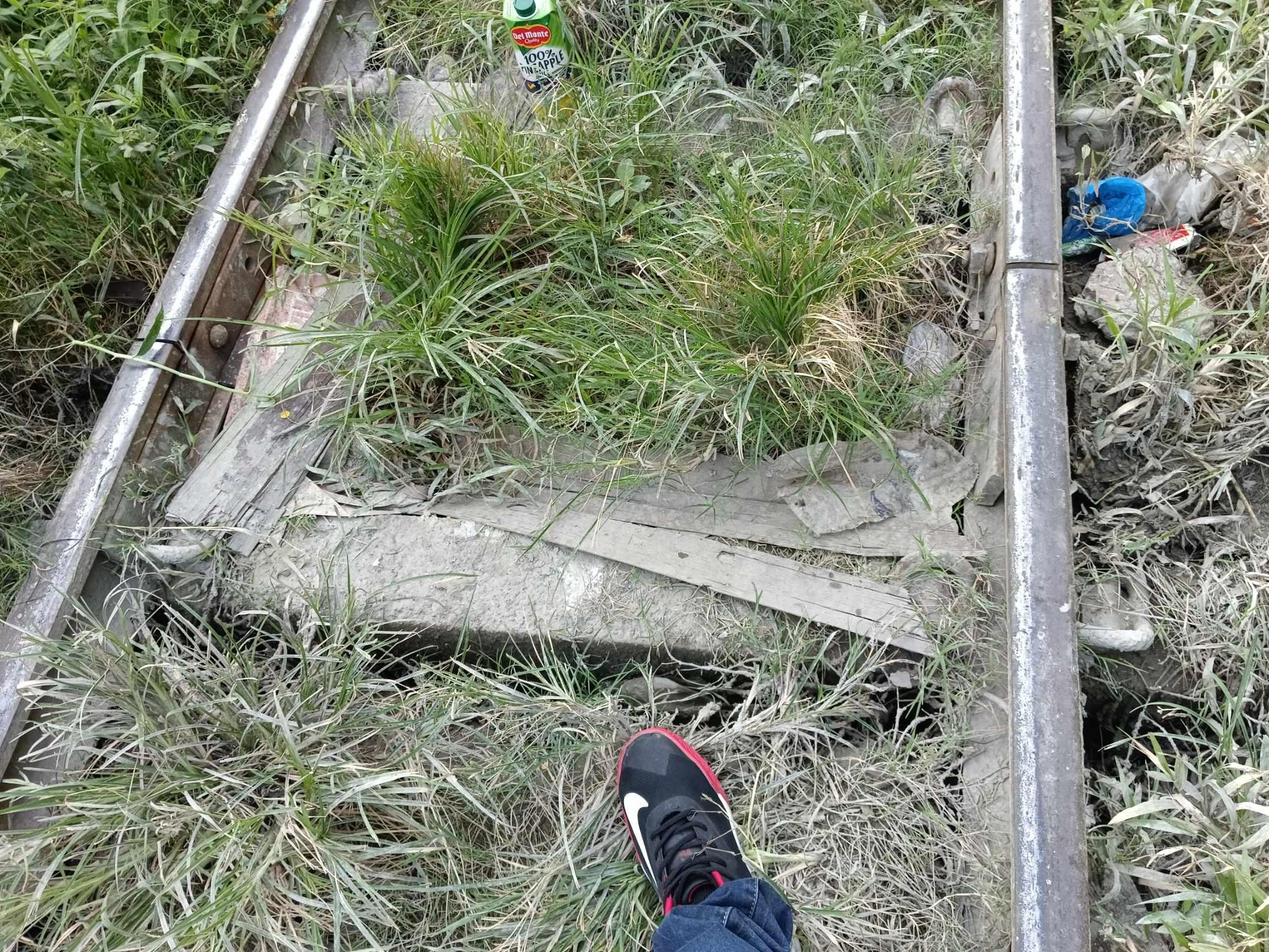railway-gap: (974, 213, 1094, 324), (106, 286, 204, 394)
